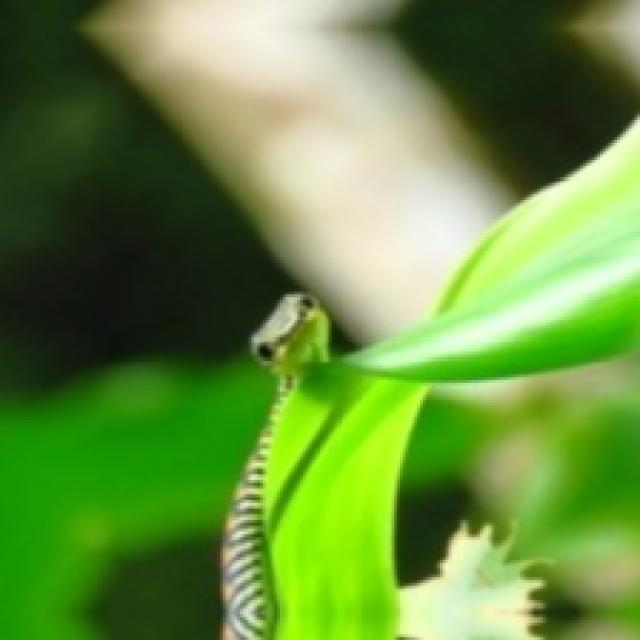paradise tree snake: (221, 292, 329, 639)
